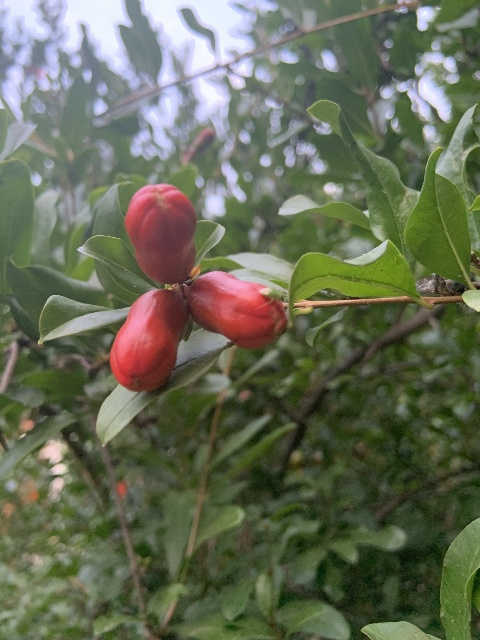bud: (109, 287, 187, 393), (187, 270, 286, 348), (124, 183, 198, 286)
